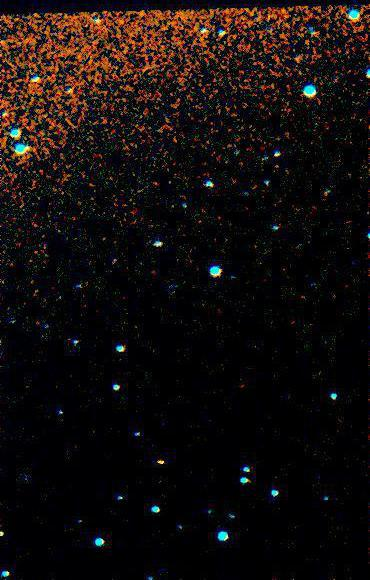star: (139, 451, 169, 481)
